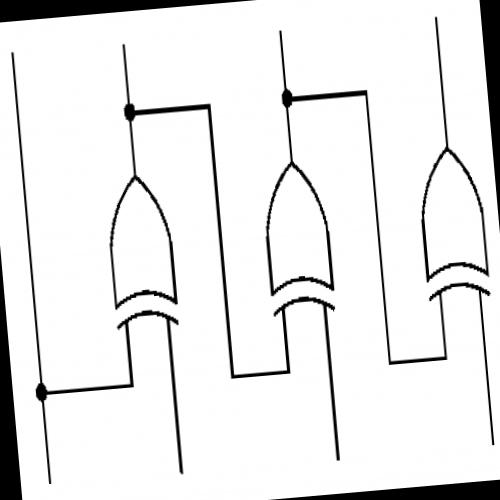xor: (96, 163, 185, 340), (408, 134, 494, 308), (252, 152, 340, 322)
